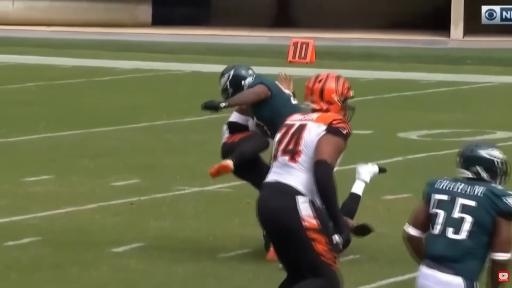Helmet: (305, 73, 354, 121), (457, 142, 511, 185), (220, 65, 255, 99)
Jersey: (423, 179, 511, 281), (265, 113, 351, 205), (245, 75, 303, 138), (222, 112, 258, 142)
Player: (258, 74, 353, 287), (404, 143, 511, 287), (202, 65, 303, 138), (210, 106, 270, 188)
